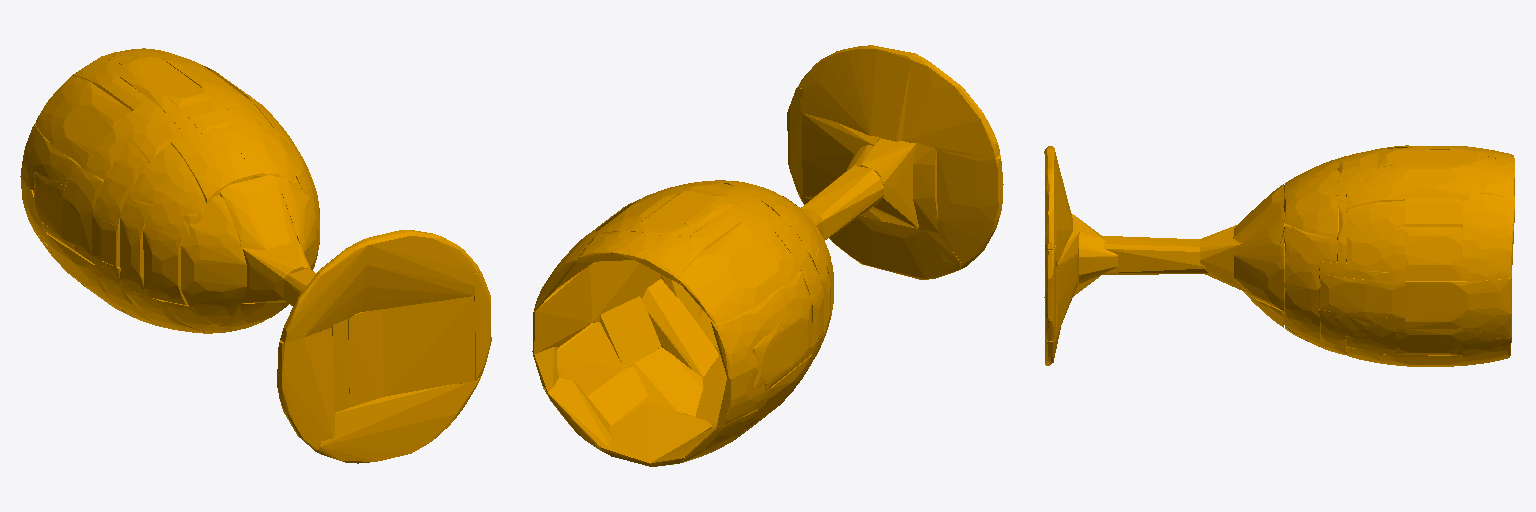
The robot description file, URDF, robot "glass-new":
<?xml version="1.0" ?>
<robot name="glass-new">
  <link name="baseLink">
    <contact>
      <lateral_friction value="1.0"/>
      <inertia_scaling value="3.0"/>
    </contact>
    <inertial>
      <origin rpy="0 0 0" xyz="0.000 0.000 0.000"/>
       <mass value=".1"/>
       <inertia ixx="1" ixy="0.0" ixz="0.0" iyy="1" iyz="0.0" izz="1"/>
    </inertial>
    <visual>
      <origin rpy="0 0 0" xyz="0 0 0"/>
      <geometry>
        <mesh filename="glass/glass-new_6.obj" scale="1.0 1.0 1.0"/>
      </geometry>
    </visual>
    <collision>
      <origin rpy="0 0 0" xyz="0 0 0"/>
      <geometry>
        <mesh filename="../collision/glass/glass-new_6.obj" scale="1.0 1.0 1.0"/>
      </geometry>
    </collision>
  </link>
</robot>
        

--- Facts derived from the render (not from the file) ---
The picture shows the robot from 3 angles, left to right: view 1: azimuth 30°, elevation 25°; view 2: azimuth 150°, elevation 25°; view 3: azimuth 270°, elevation 25°; orthographic projection.
Model glass-new with 1 links and 0 joints (none), rooted at baseLink, posed all joints at 0.
Links seen in each view (by area): view 1: baseLink; view 2: baseLink; view 3: baseLink.
Link boxes in pixels (x1,y1,x2,y2): baseLink: (20, 48, 491, 463); baseLink: (532, 45, 1003, 466); baseLink: (1044, 145, 1514, 366).
Bounding box of the posed robot: 0.0652 × 0.1402 × 0.0656 m (x, y, z).
Meshes: 1 distinct files referenced, 1 mesh visuals loaded (1 OBJ).